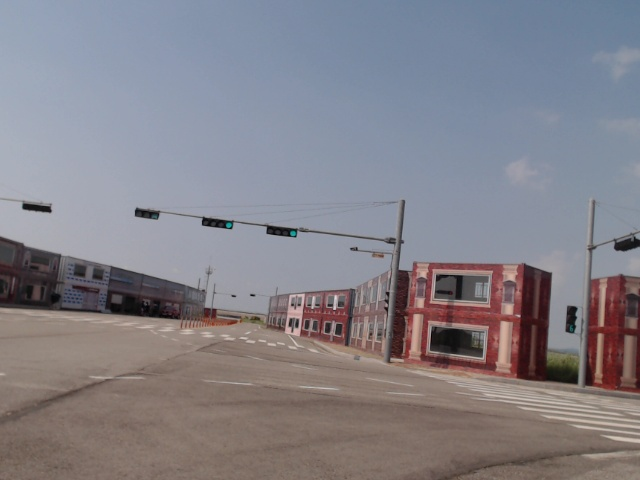straight_green_4: (203, 216, 234, 229), (267, 225, 297, 237)
